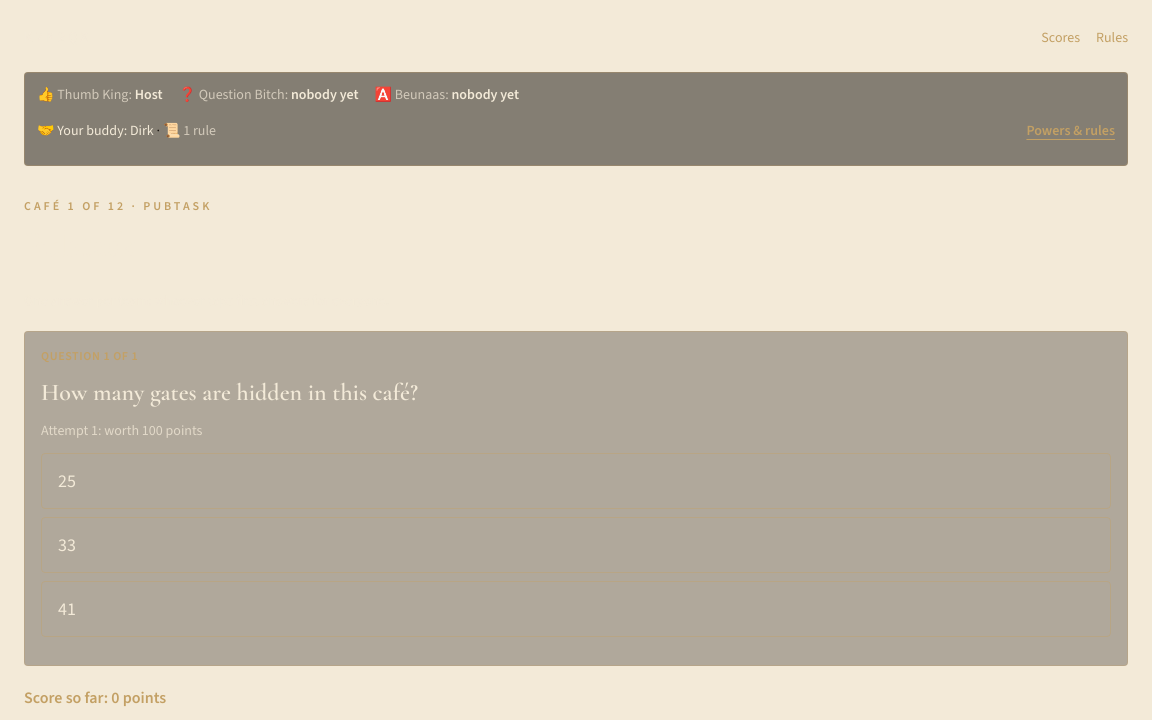
Test: powers, buddies and rules › the bar shows the team's powers and my buddy; the full list opens; a sip can be reported
Check: the text "Host" is shown, box [135, 85, 162, 104]
Click the button "Powers & rules" at [1071, 131], box [1026, 109, 1115, 153]
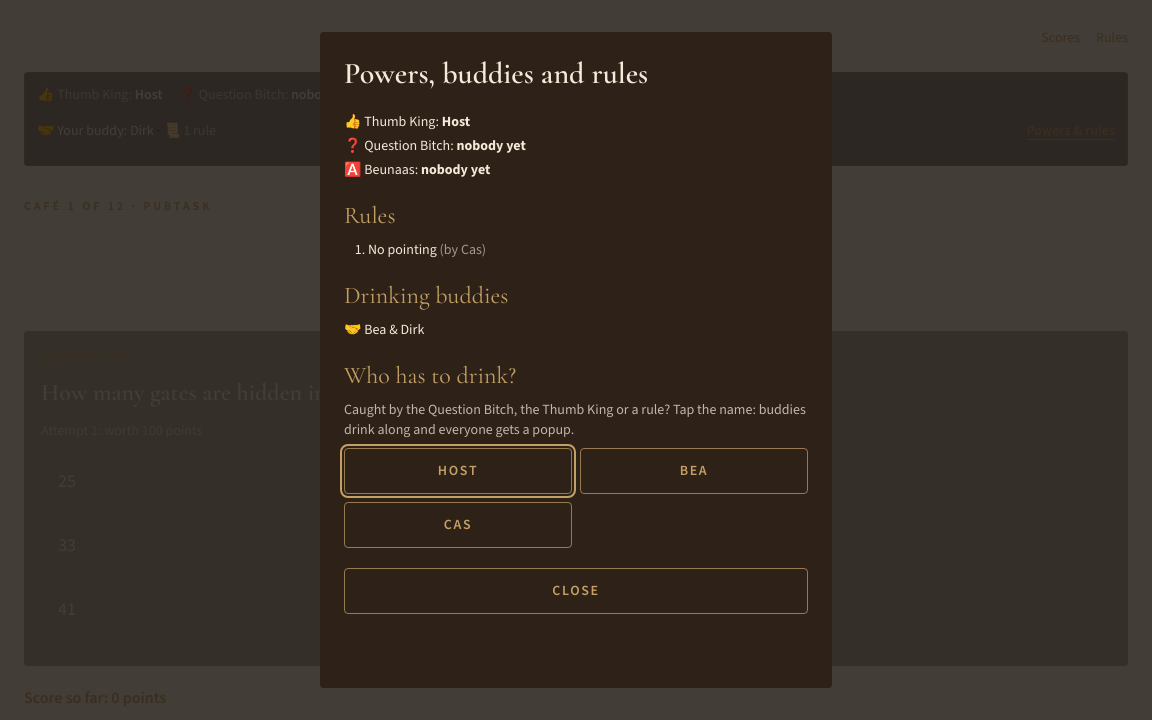
Check: the list item "No pointing (by Cas)" is shown, box [368, 240, 486, 259]
Check: the list item "🤝 Bea & Dirk" is shown, box [344, 320, 424, 339]
Click the button "Cas" at [458, 525], box [344, 502, 572, 548]
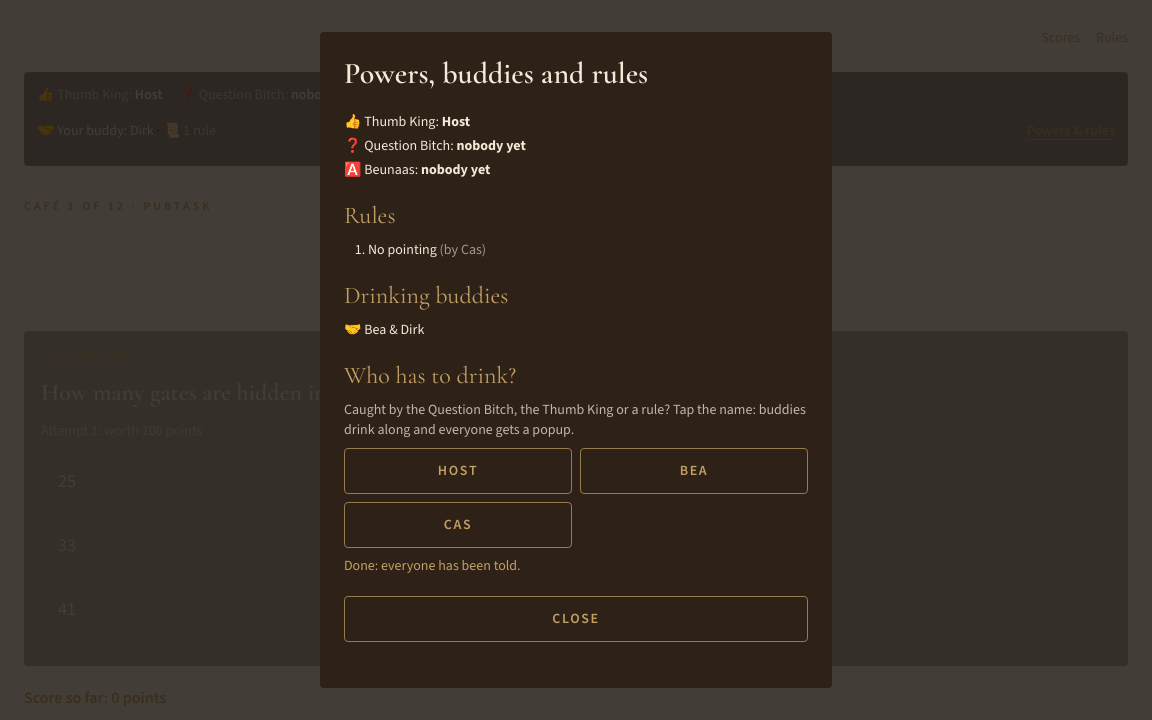
Check: the text "Done: everyone has been told." is shown, box [344, 556, 521, 575]
